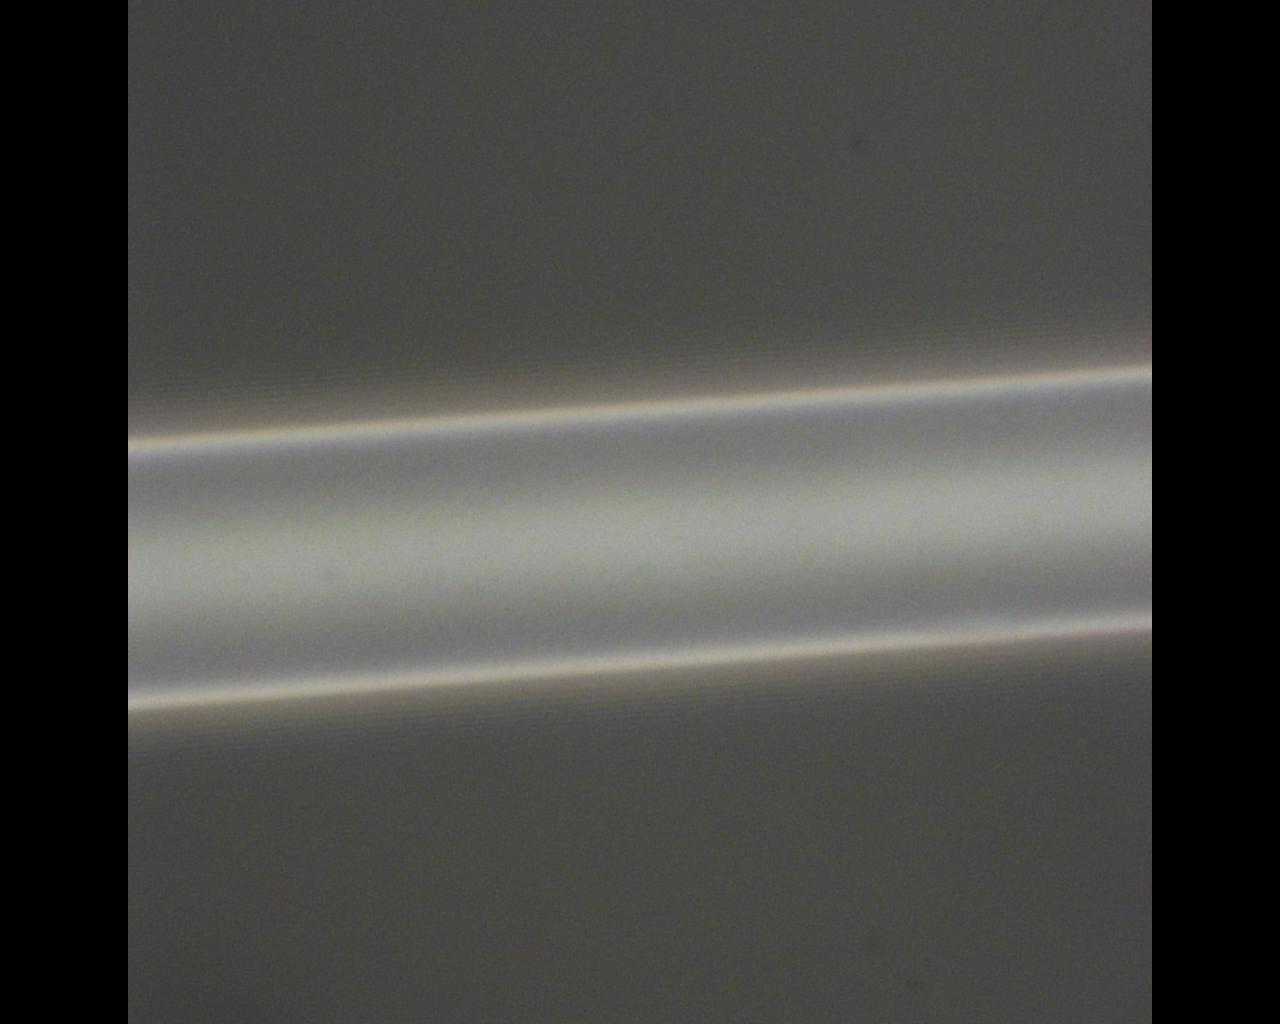fiber: (127, 359, 1151, 714)
